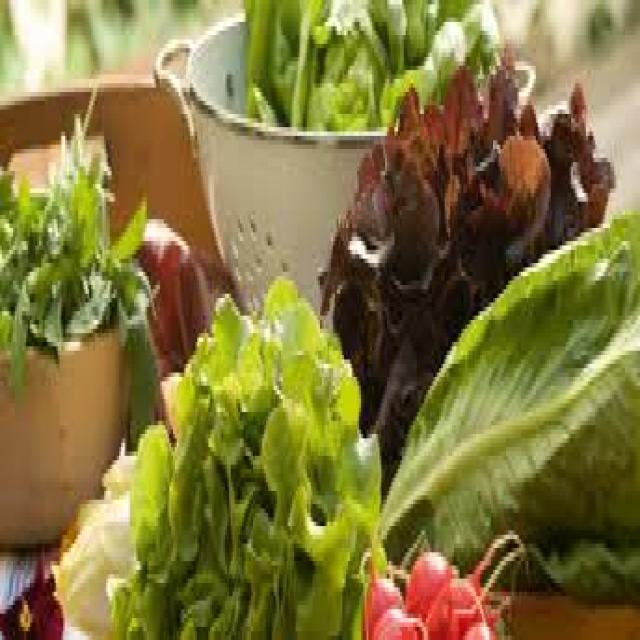organic waste: (316, 49, 614, 474), (104, 272, 385, 636), (378, 210, 638, 596), (0, 114, 167, 350), (54, 364, 179, 636), (242, 0, 498, 114), (136, 215, 227, 372), (424, 570, 510, 636), (0, 552, 63, 635), (402, 548, 458, 618), (359, 552, 400, 636), (370, 600, 424, 636)
